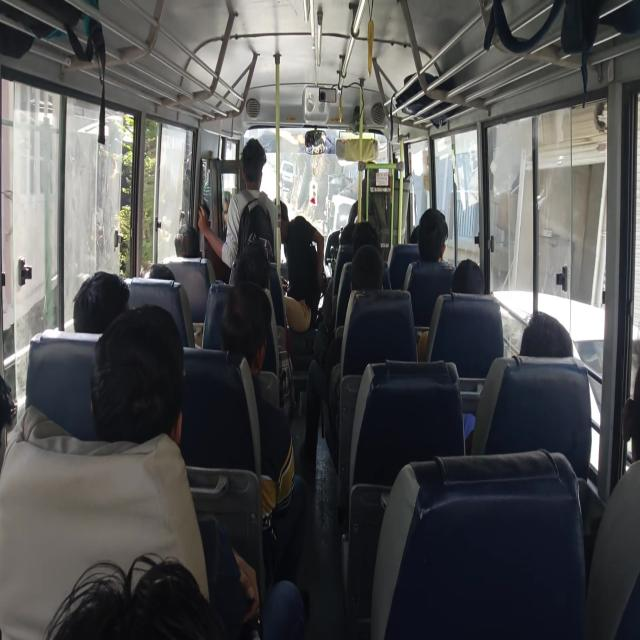person: (99, 318, 213, 470), (81, 550, 272, 640), (207, 284, 272, 381), (51, 260, 108, 331), (0, 388, 41, 476), (521, 307, 581, 367), (169, 212, 212, 286), (236, 151, 278, 220), (344, 245, 386, 304), (148, 252, 188, 308), (426, 203, 455, 273), (272, 196, 306, 249), (234, 241, 266, 294), (459, 250, 482, 296), (341, 216, 380, 239), (406, 221, 434, 250)
